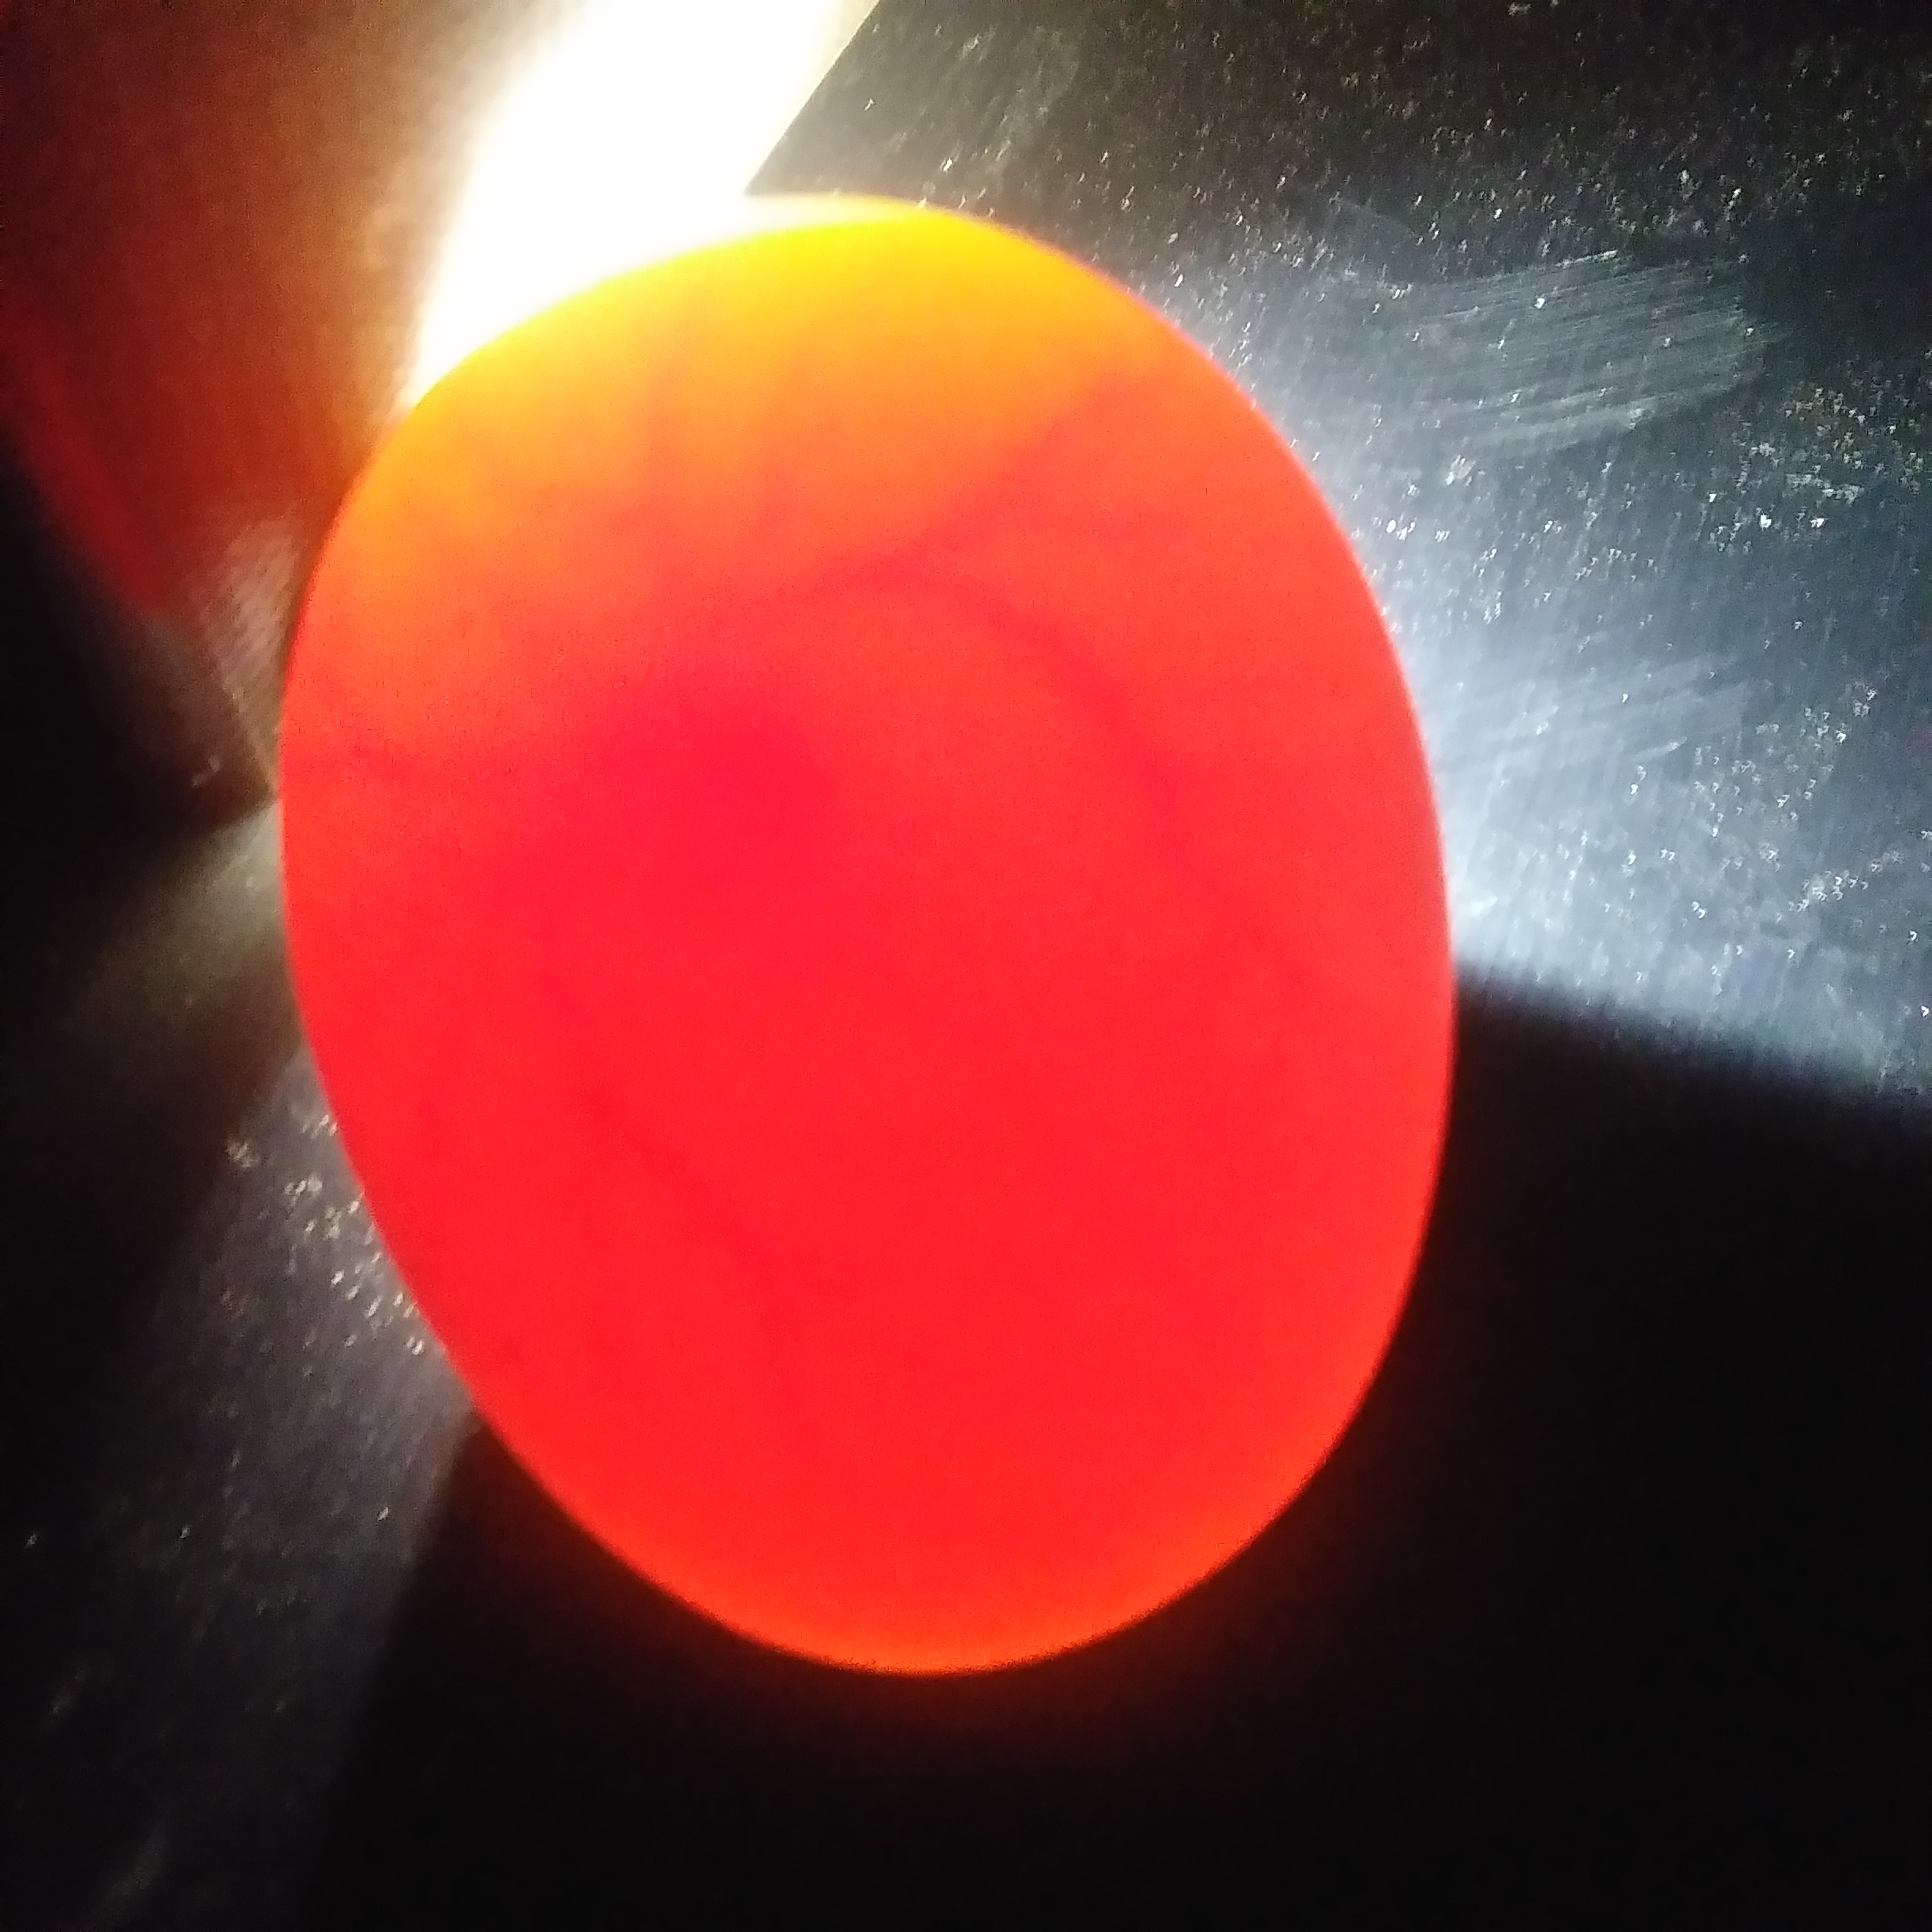bloodcell: (878, 322, 1203, 1120), (418, 400, 803, 609)
embryo: (559, 665, 794, 856)
